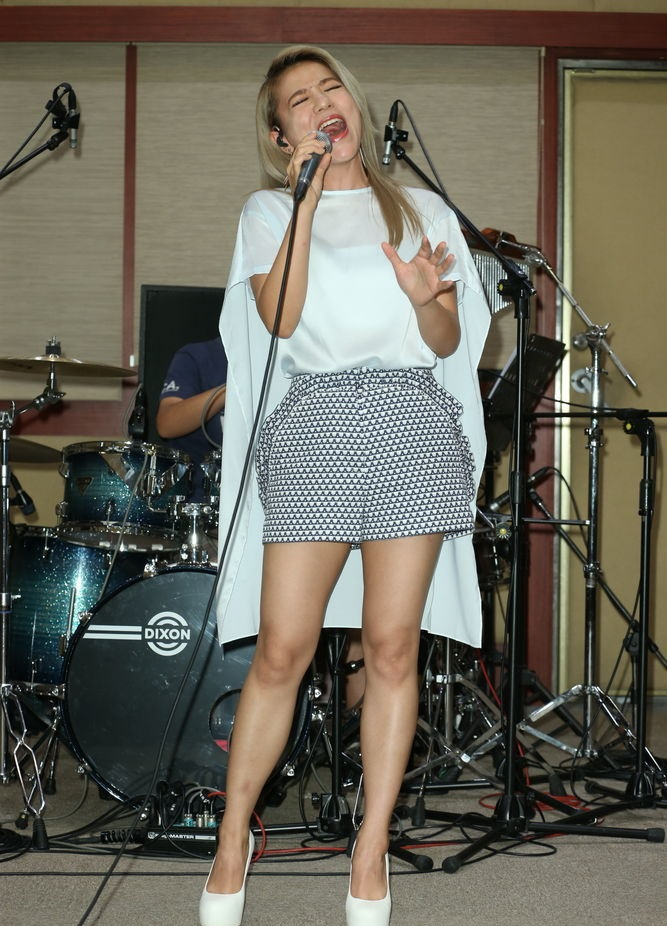face: (280, 54, 360, 164)
